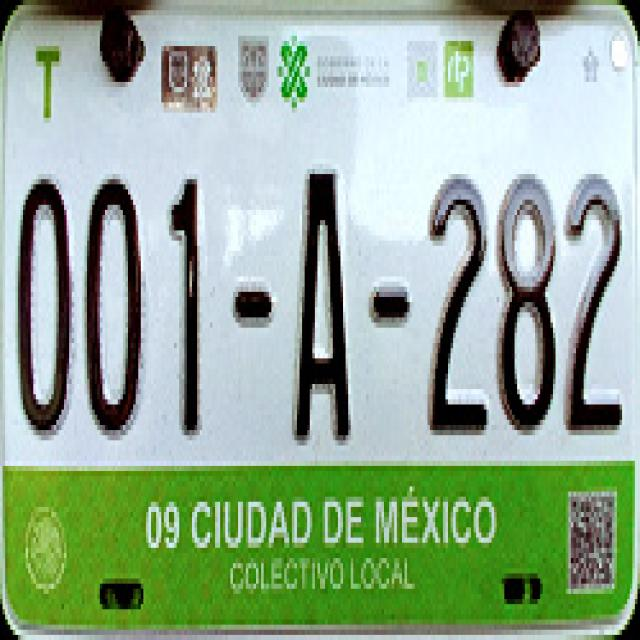placa: (4, 148, 631, 446)
